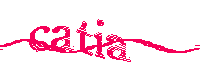a: (51, 25, 74, 53), (106, 33, 128, 61)
c: (29, 23, 51, 52)
i: (93, 18, 106, 62)
t: (77, 19, 95, 58)
